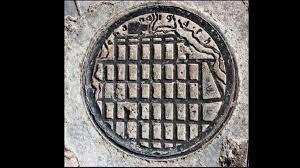open manhole-not overflowing-: (83, 9, 242, 167)
